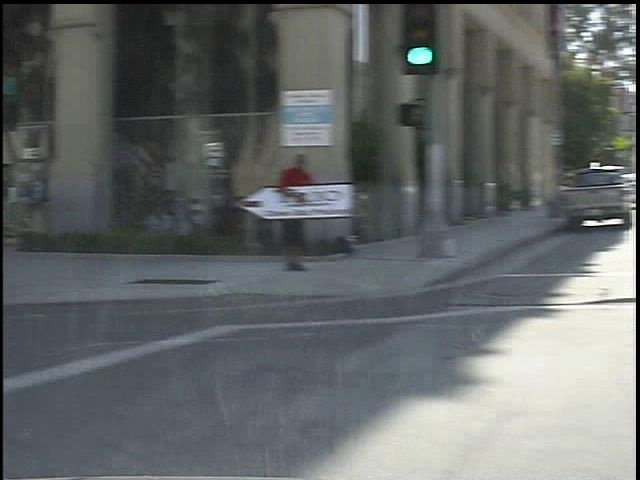person: (263, 143, 306, 275)
